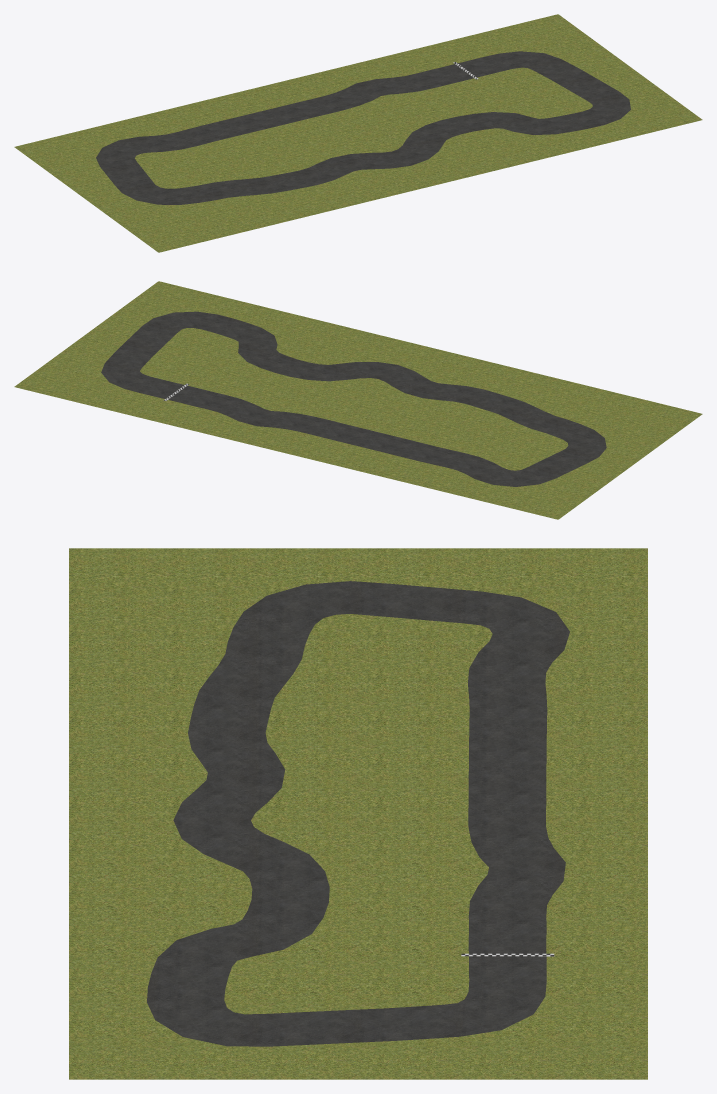
The model's file is core.dae.
3 views of the same model, one above another, from view 1: azimuth 30°, elevation 25°; view 2: azimuth 150°, elevation 25°; view 3: azimuth 270°, elevation 25° (orthographic). The views are drawn at different scales.
Parts seen in each view (by area): view 1: field, road; view 2: field, road; view 3: field, road.
Part boxes in pixels (box(x1,y1,x2,y2)): field: box(14, 14, 702, 252); road: box(96, 51, 630, 204); field: box(14, 281, 702, 519); road: box(101, 311, 606, 486); field: box(69, 548, 647, 1079); road: box(147, 581, 569, 1046).
Bounding box in the file's own units: 12.34 × 5.68 × 0.0025.
3 materials, 3 textured.
